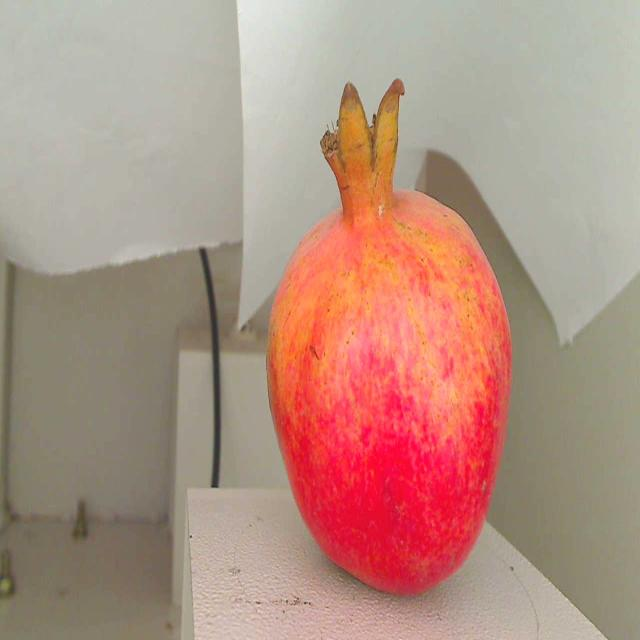pomegranate: (255, 56, 517, 594)
